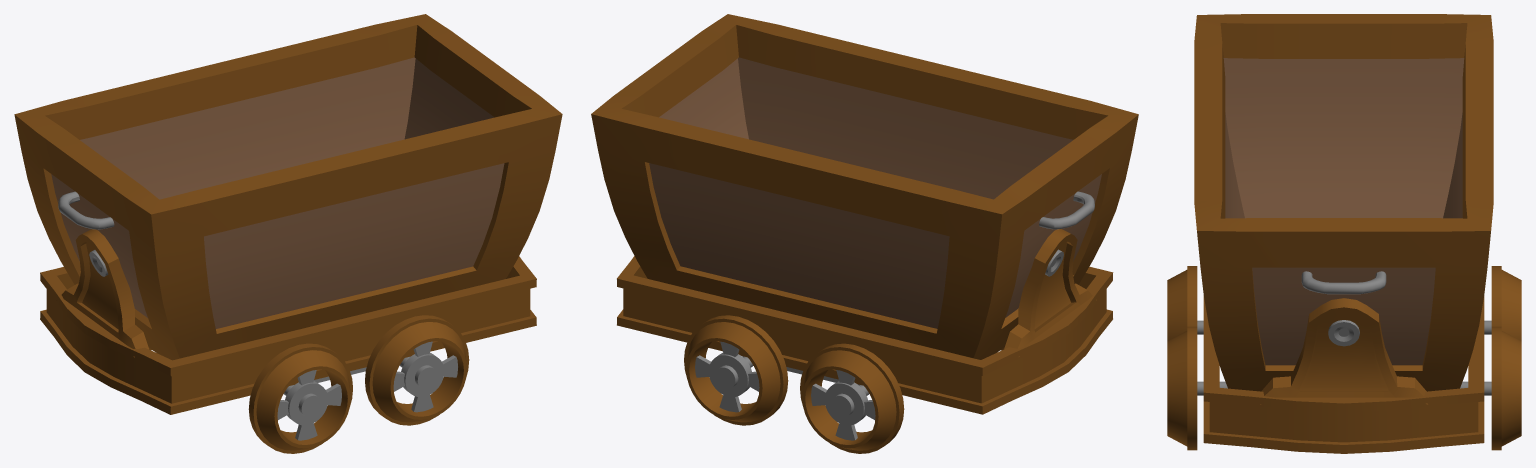
File: Minecart.fbx
3 renders of one model, left to right at view 1: azimuth 30°, elevation 25°; view 2: azimuth 150°, elevation 25°; view 3: azimuth 270°, elevation 25°, orthographic. The views are drawn at different scales.
Parts seen in each view (by area): view 1: Minecart; view 2: Minecart; view 3: Minecart.
Boxes of the visible parts, x1,y1,x2,y2 form: Minecart: [14, 14, 562, 453]; Minecart: [591, 14, 1138, 453]; Minecart: [1167, 14, 1521, 453].
Bounding box in the file's own units: 387 × 228 × 250.
